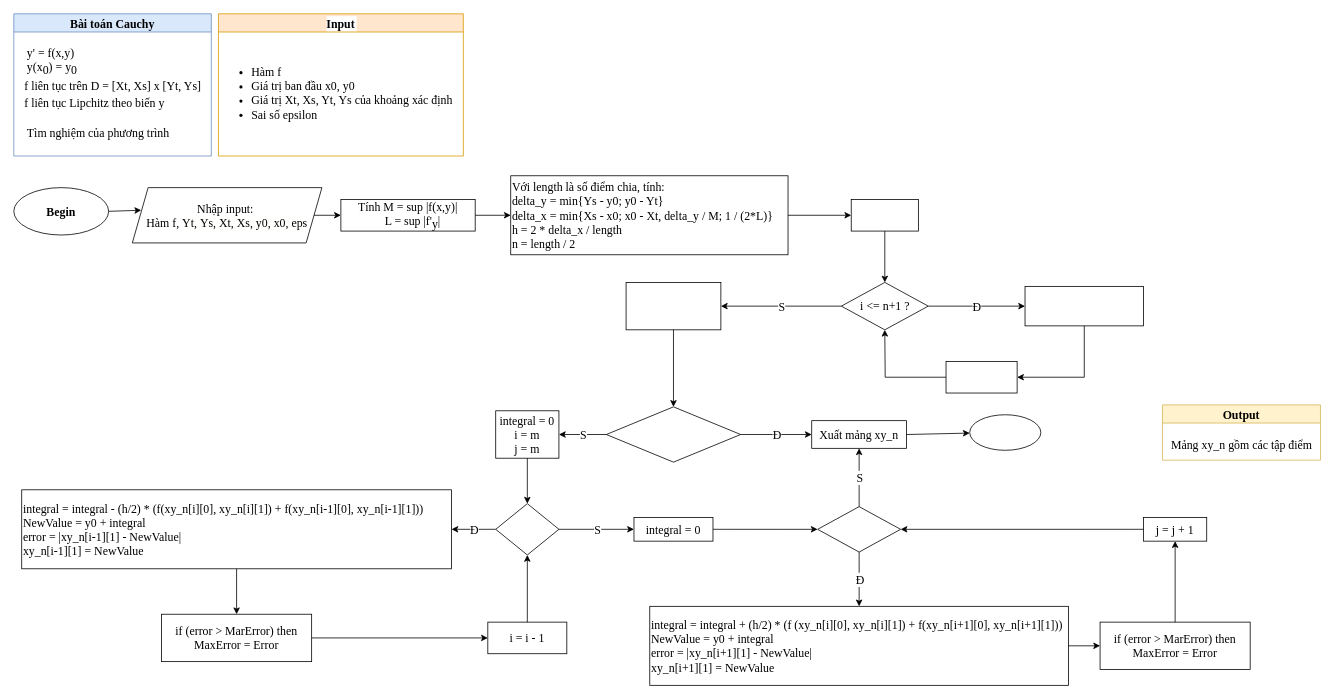
This 1334x699 diagram has some shape labels left out. The shapes that lost their labels are listed below. From the top down, each one's centre as x and y in pixels, then its label:
At (884,215): "i = - n".
At (673,306): "MaxError = -1 m = len(xy_n) / 2".
At (1084,306): "xy_n[i][0] = x0 + i * h xy_n[i][1] = y0".
At (981,377): "i = i + 1".
At (673,434): "MaxError < epsilon?".
At (1005,432): "End.".
At (527,529): "i > 0 ?".
At (859,529): "j < 2 * m ?".
